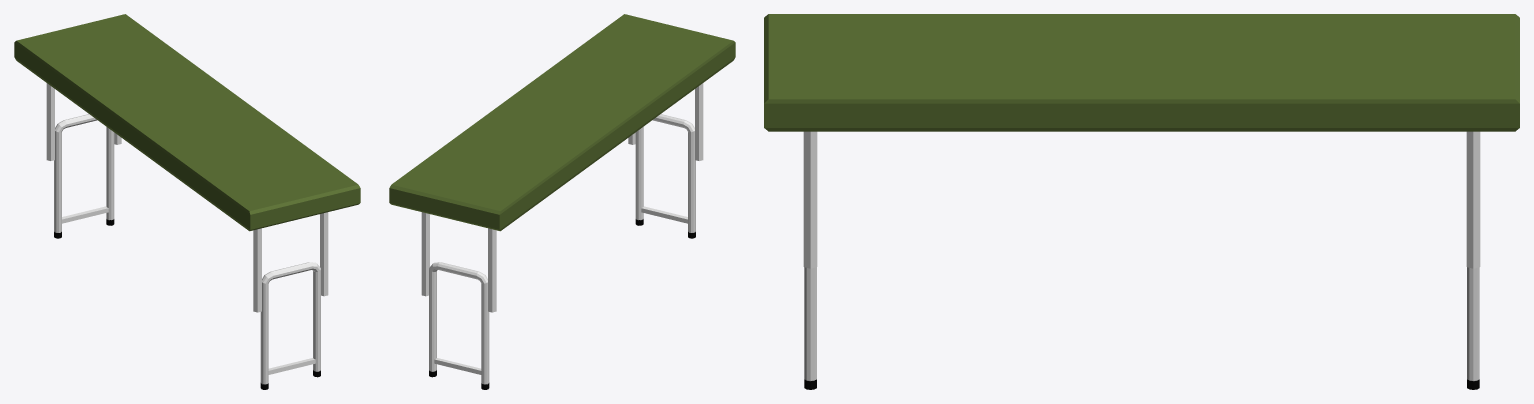
File: Table.obj
3 views of the same model, side by side, from view 1: azimuth 30°, elevation 25°; view 2: azimuth 150°, elevation 25°; view 3: azimuth 270°, elevation 25° (orthographic). The views are drawn at different scales.
Visible parts, largest first — view 1: pCube2; view 2: pCube2; view 3: pCube2.
Boxes of the visible parts, x1,y1,x2,y2 form: pCube2: [14, 14, 360, 389]; pCube2: [389, 14, 735, 389]; pCube2: [764, 14, 1519, 389].
Size of the model in its own units: 0.5531 by 0.9281 by 2.05.
Materials: 1 (1 with a texture image).
